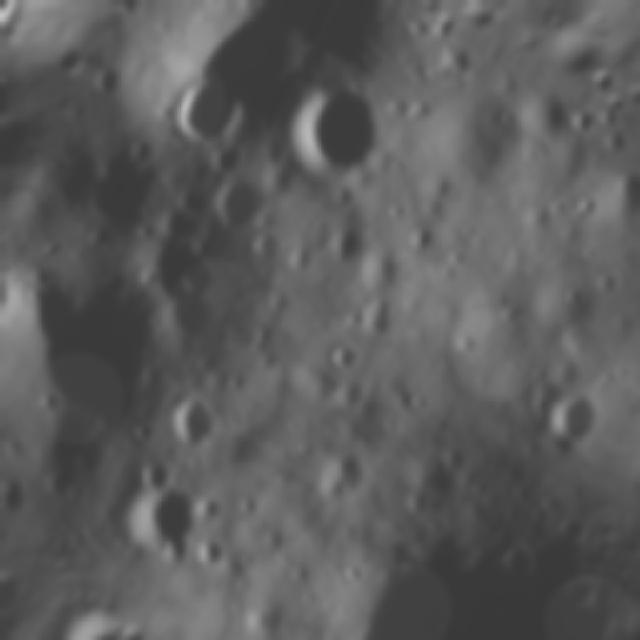crater: (0, 233, 192, 481), (272, 62, 408, 198), (157, 46, 272, 162), (111, 466, 218, 580), (530, 368, 619, 461), (149, 372, 237, 463), (512, 75, 591, 157), (204, 155, 279, 237), (241, 212, 294, 265), (320, 331, 372, 383), (130, 445, 181, 497), (42, 528, 104, 567)
